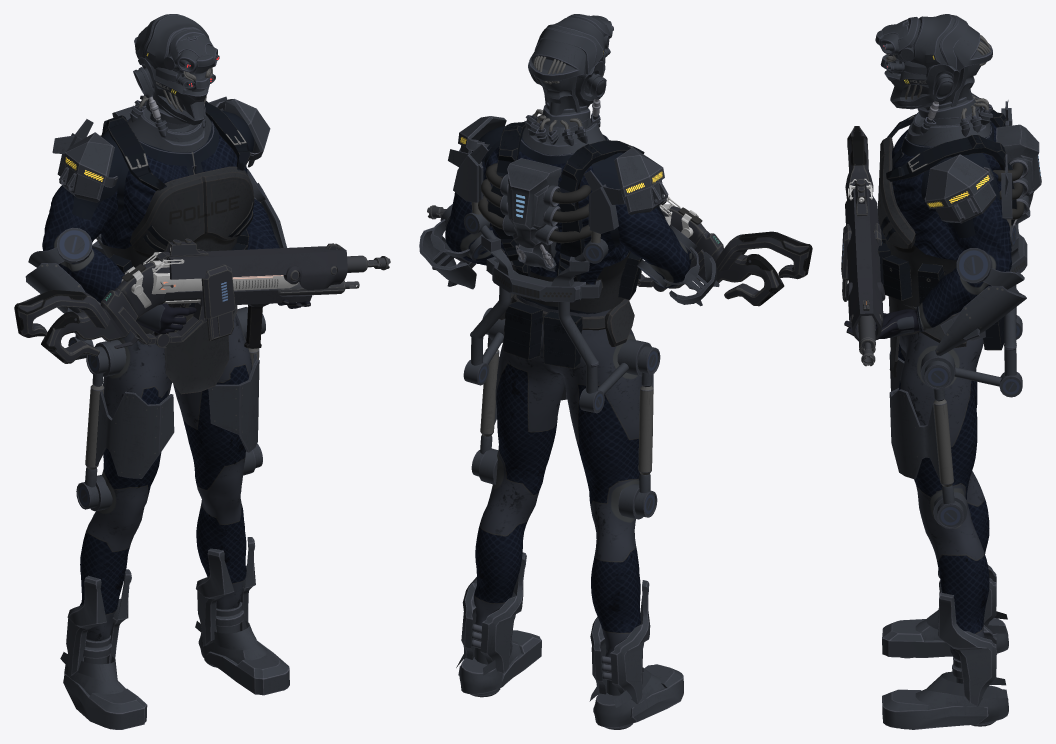
The model's file is mech_police.glb.
The picture shows the model from 3 angles, left to right: view 1: azimuth 30°, elevation 25°; view 2: azimuth 150°, elevation 25°; view 3: azimuth 270°, elevation 25°; orthographic projection.
Parts seen in each view (by area): view 1: Object_8, Object_13, Object_15, Object_14, Object_12, Object_4, Object_3, Object_6, Object_7, Object_17, Object_11; view 2: Object_8, Object_15, Object_13, Object_14, Object_12, Object_6, Object_4, Object_2, Object_7, Object_9, Object_16; view 3: Object_13, Object_15, Object_8, Object_12, Object_14, Object_6, Object_7, Object_3, Object_2, Object_4, Object_11, Object_17 (+2 smaller).
Boxes of the visible parts, left/top/right/bottom form: Object_8: left=79, top=314, right=252, bottom=640; Object_13: left=59, top=99, right=289, bottom=729; Object_15: left=25, top=96, right=286, bottom=511; Object_14: left=96, top=100, right=254, bottom=394; Object_12: left=42, top=110, right=310, bottom=334; Object_4: left=14, top=262, right=235, bottom=363; Object_3: left=151, top=246, right=347, bottom=306; Object_6: left=128, top=14, right=217, bottom=152; Object_7: left=129, top=54, right=219, bottom=137; Object_17: left=121, top=238, right=340, bottom=348; Object_11: left=149, top=255, right=390, bottom=303; Object_8: left=474, top=295, right=642, bottom=657; Object_15: left=419, top=143, right=719, bottom=519; Object_13: left=456, top=116, right=683, bottom=729; Object_14: left=487, top=122, right=644, bottom=368; Object_12: left=445, top=126, right=691, bottom=314; Object_6: left=522, top=14, right=612, bottom=155; Object_4: left=637, top=206, right=812, bottom=306; Object_2: left=500, top=158, right=561, bottom=271; Object_7: left=524, top=26, right=613, bottom=145; Object_9: left=478, top=163, right=591, bottom=243; Object_16: left=533, top=55, right=582, bottom=131; Object_13: left=882, top=93, right=1008, bottom=729; Object_15: left=877, top=100, right=1027, bottom=528; Object_8: left=898, top=311, right=989, bottom=659; Object_12: left=844, top=120, right=1011, bottom=339; Object_14: left=877, top=99, right=1017, bottom=377; Object_6: left=875, top=14, right=992, bottom=146; Object_7: left=883, top=43, right=992, bottom=136; Object_3: left=845, top=188, right=884, bottom=341; Object_2: left=996, top=124, right=1041, bottom=226; Object_4: left=841, top=126, right=885, bottom=301; Object_11: left=854, top=188, right=875, bottom=366; Object_17: left=846, top=178, right=884, bottom=322.
Size of the model in its own units: 1.28 by 2.18 by 0.5933.
Materials: 15 (11 with a texture image).
